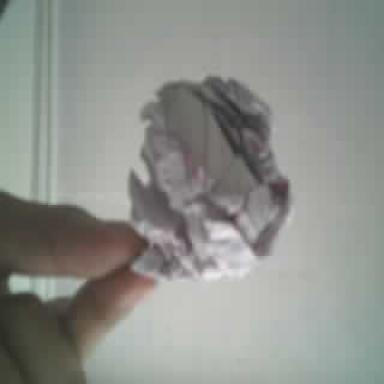paper: (130, 78, 290, 278)
